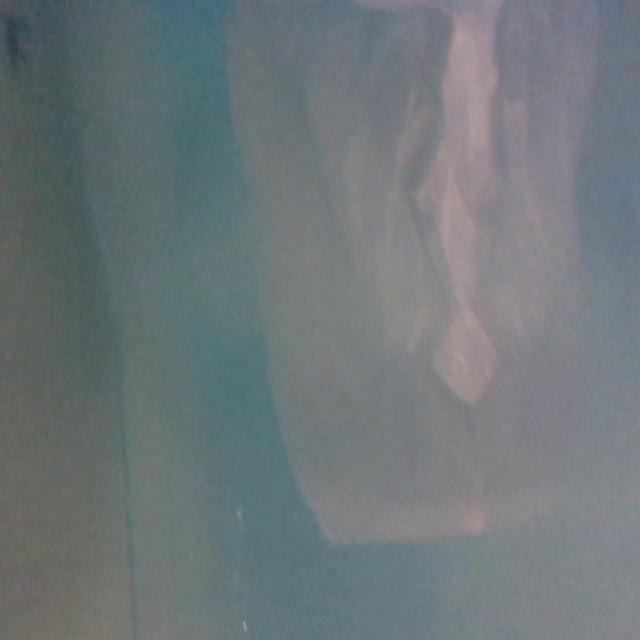plastic bags: (208, 0, 623, 547)
